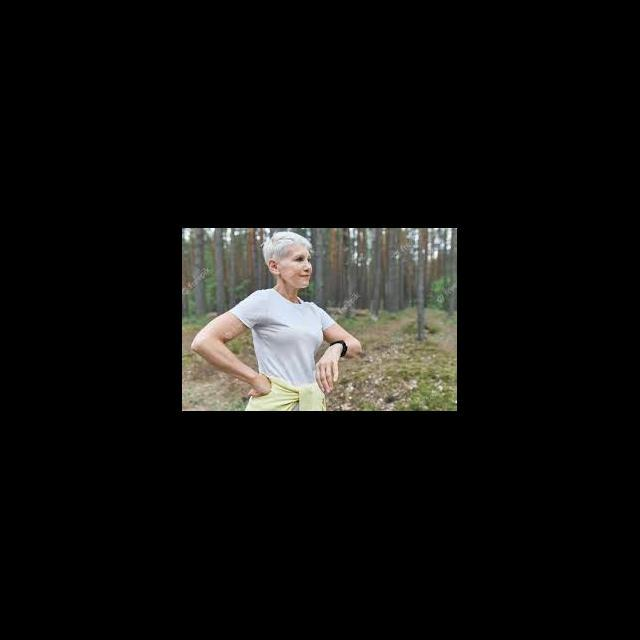watch: (328, 334, 372, 368)
